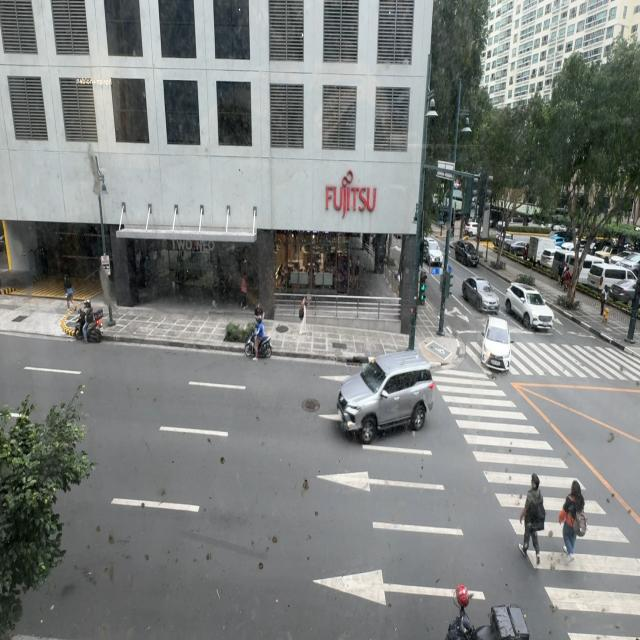crossing: (519, 473, 543, 562), (560, 479, 585, 561)
